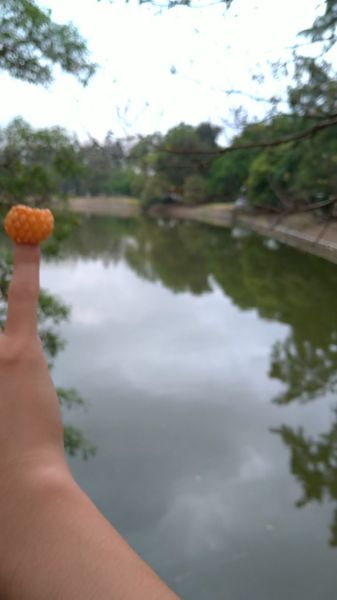eggs: (4, 203, 55, 245)
